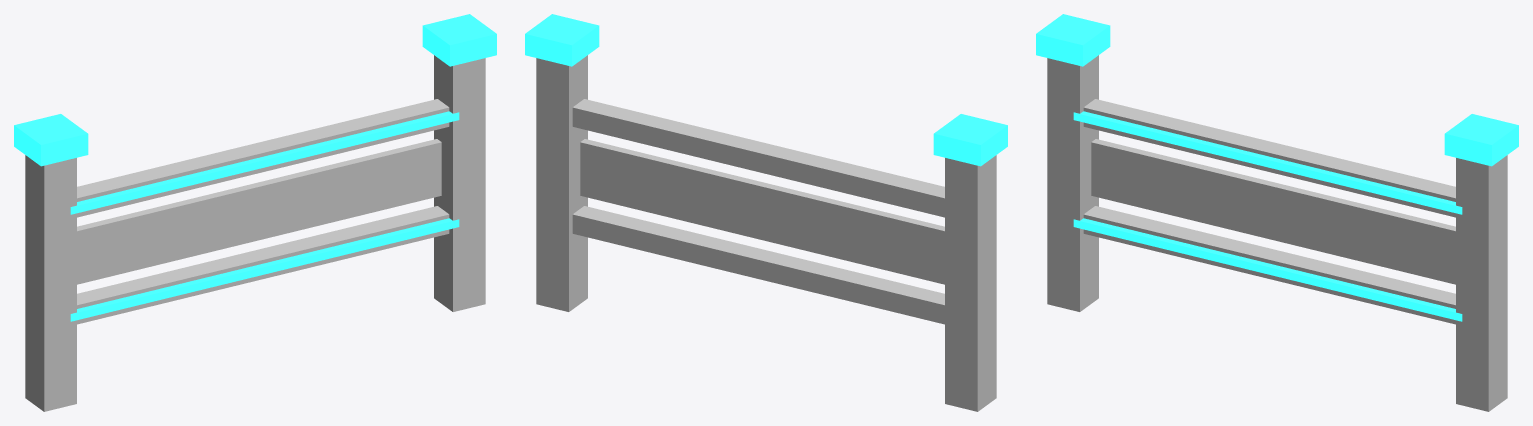
3 views of the same model, side by side, from view 1: azimuth 30°, elevation 25°; view 2: azimuth 150°, elevation 25°; view 3: azimuth 330°, elevation 25° (orthographic).
Visible parts, largest first — view 1: Neon_FenceStraight_Standard; view 2: Neon_FenceStraight_Standard; view 3: Neon_FenceStraight_Standard.
Boxes of the visible parts, x1,y1,x2,y2 form: Neon_FenceStraight_Standard: (14,14,496,411); Neon_FenceStraight_Standard: (525,14,1007,411); Neon_FenceStraight_Standard: (1036,14,1518,411).
Bounding box in the file's own units: 2.23 × 1.27 × 0.23.
